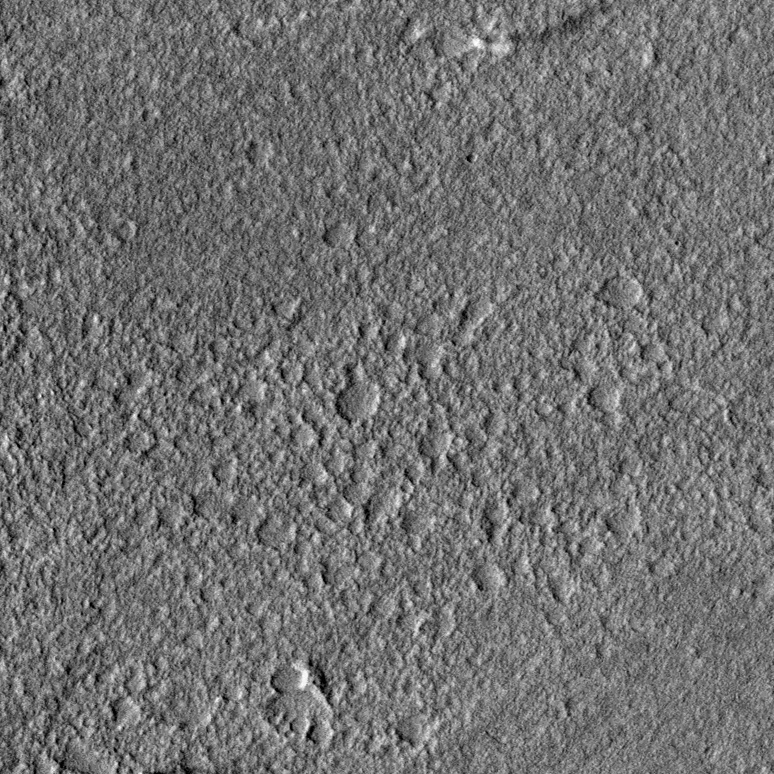dust_devil: (471, 3, 613, 56), (135, 765, 194, 774)
